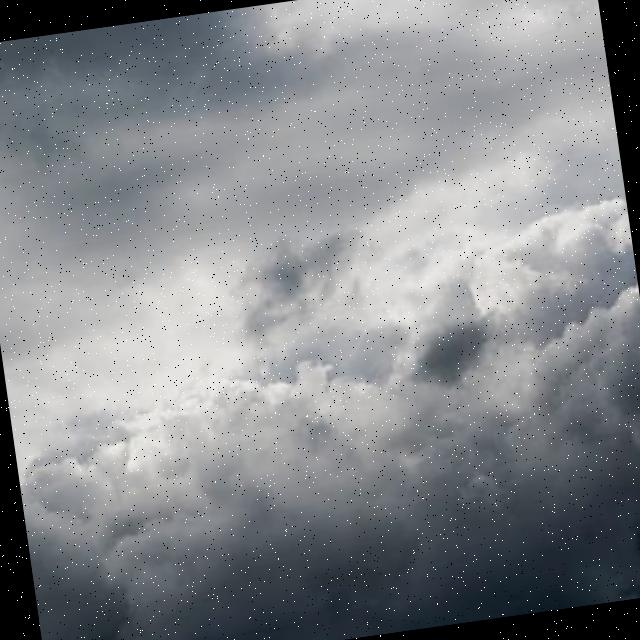Ns: (1, 63, 640, 640)
